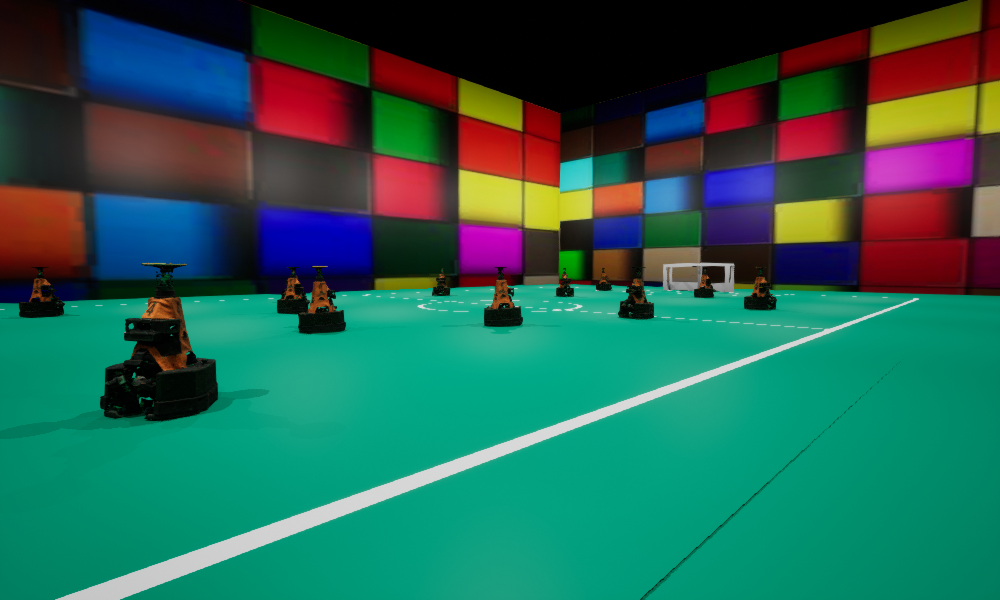0 orange robot TechUnited: (100, 263, 217, 418), (298, 266, 345, 333), (19, 267, 64, 317), (484, 267, 522, 326), (618, 267, 653, 318), (277, 267, 309, 313), (744, 267, 776, 309), (281, 268, 305, 298), (694, 268, 715, 297), (556, 268, 573, 296), (432, 268, 449, 295), (596, 268, 611, 290)
